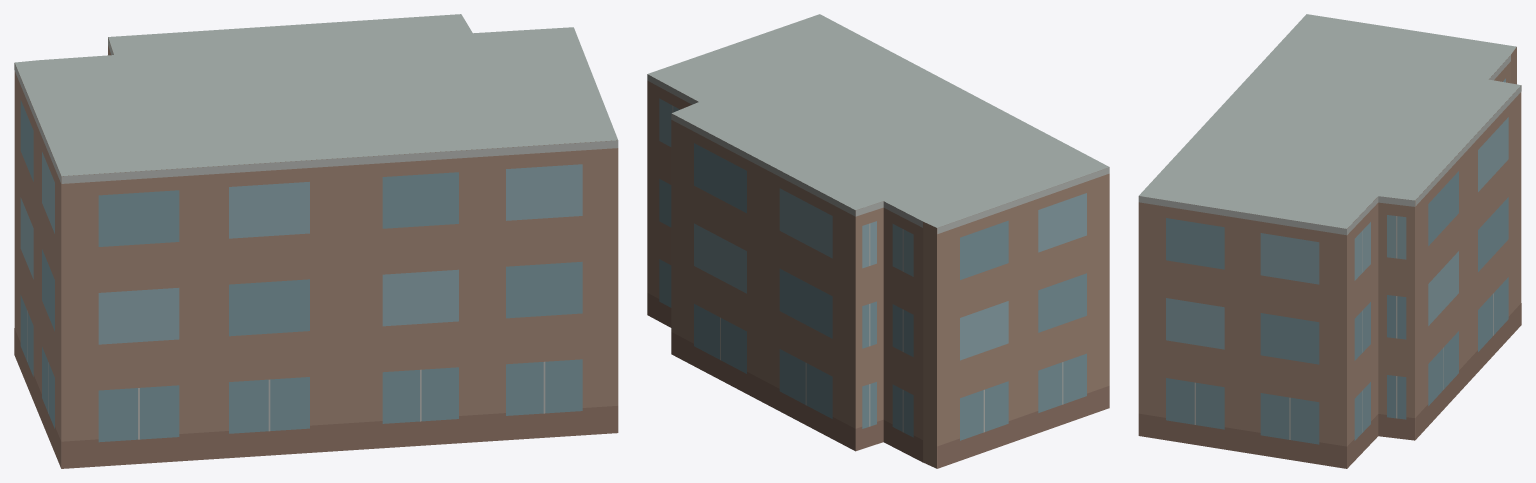
The model's file is survey-upis-32709532.glb.
3 renders of one model, left to right at view 1: azimuth 30°, elevation 25°; view 2: azimuth 150°, elevation 25°; view 3: azimuth 270°, elevation 25°, orthographic. The views are drawn at different scales.
Visible parts, largest first — view 1: survey-upis-32709532.tmp; view 2: survey-upis-32709532.tmp; view 3: survey-upis-32709532.tmp.
Part boxes in pixels (x1=…): survey-upis-32709532.tmp: x1=14, y1=14, x2=618, y2=468; survey-upis-32709532.tmp: x1=647, y1=14, x2=1109, y2=468; survey-upis-32709532.tmp: x1=1138, y1=14, x2=1521, y2=468.
Size of the model in its own units: 17.58 by 9.15 by 13.24.
